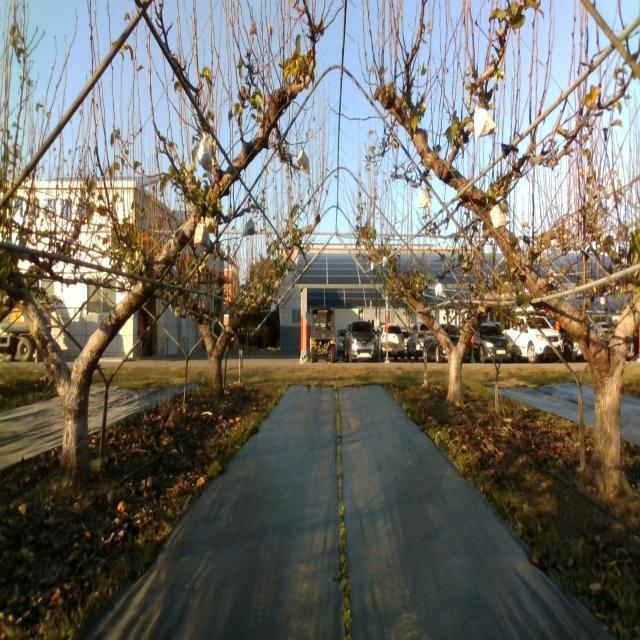pearbags: (473, 104, 498, 141), (198, 132, 213, 175), (193, 213, 210, 247), (489, 204, 511, 228), (297, 149, 310, 175), (417, 188, 432, 209), (243, 217, 256, 237)
